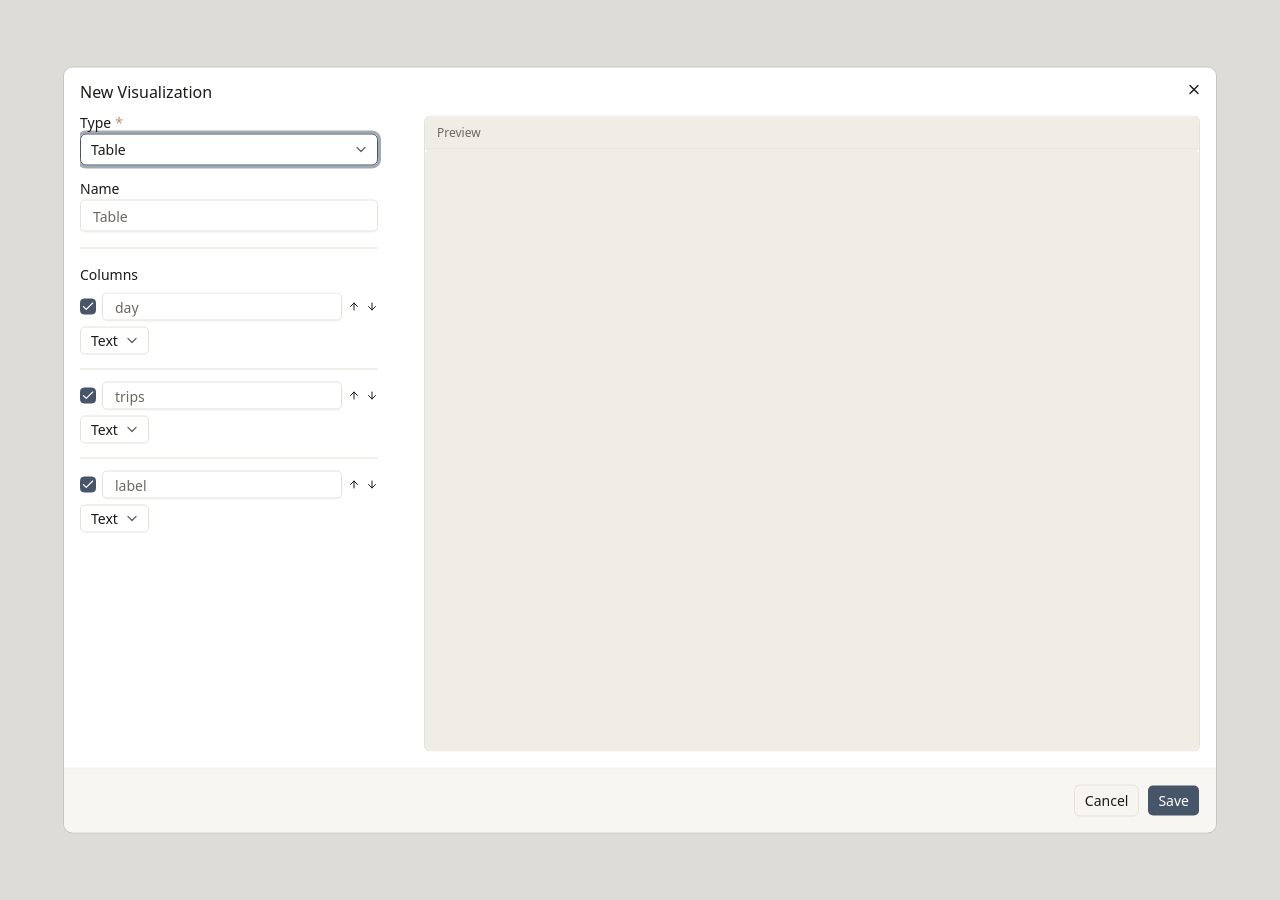
Test: EditVisualizationDialog chart column mapping › names each column mapping control after its column
This screenshot has width=1280, height=900.
Click the dropdown named "Type" at (108, 149), box [80,134,378,166]
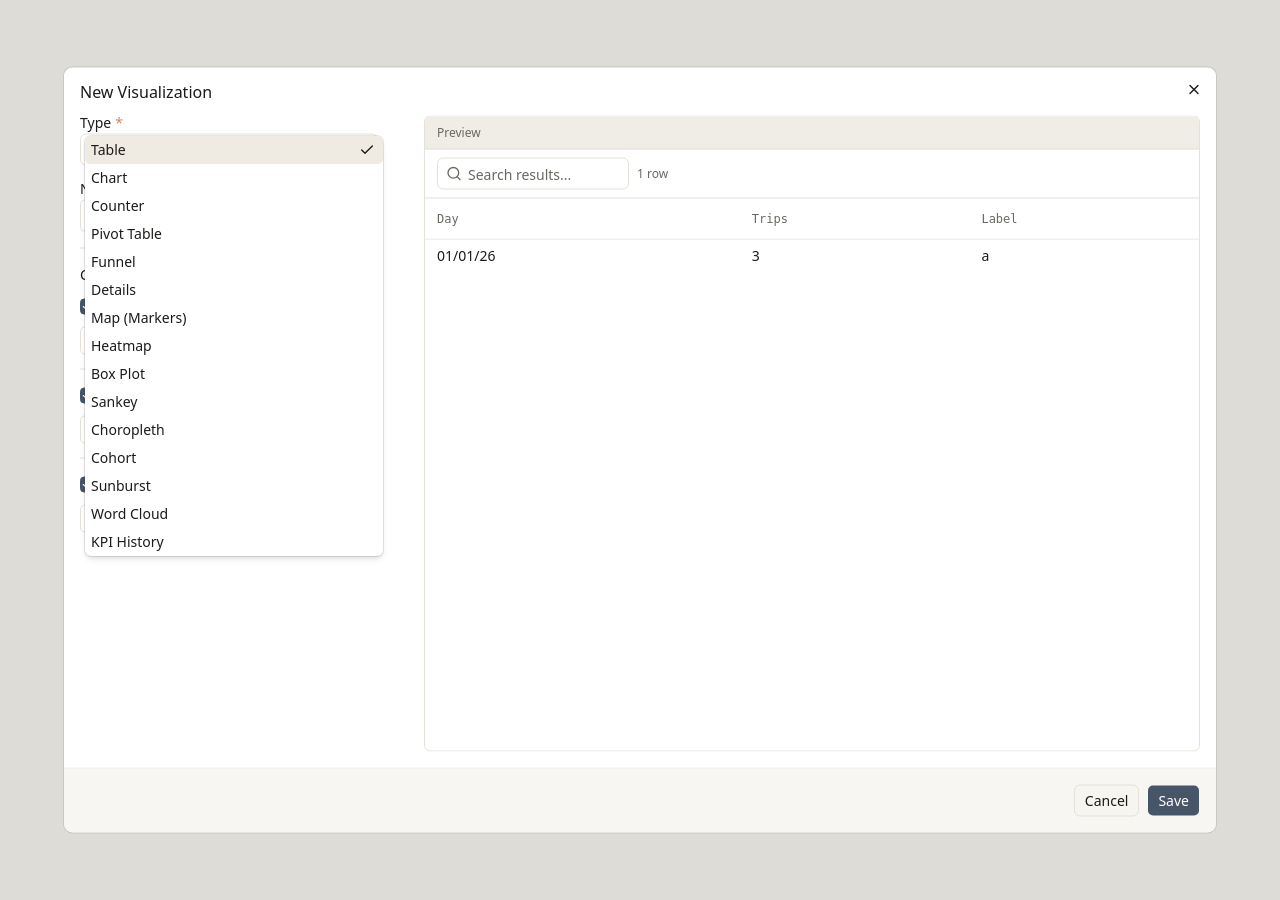
Click the option "Chart" at (109, 177), box [91,168,127,186]
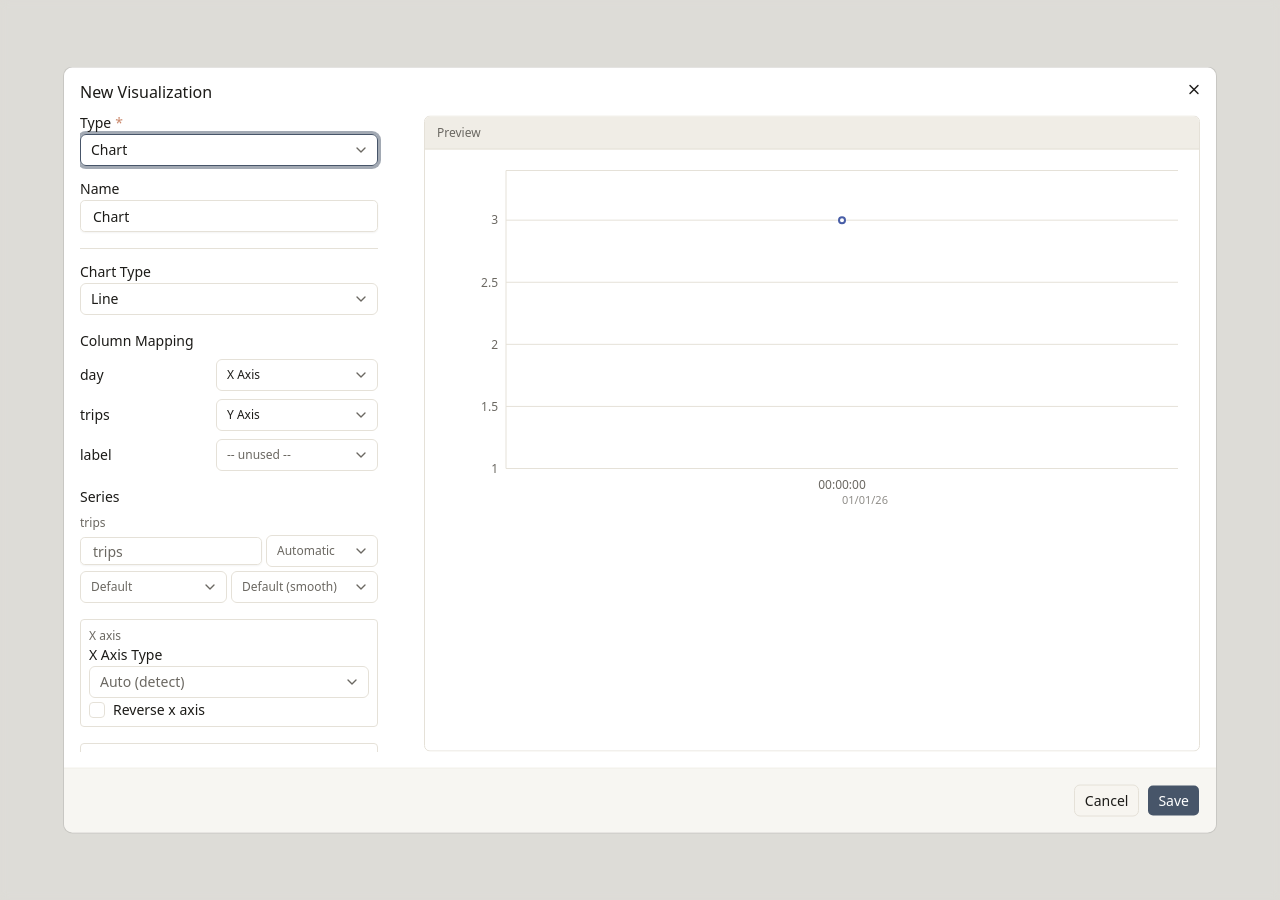
Expected: the dropdown named "Role for day" is shown, [216,358,378,390]
Expected: the dropdown named "Role for trips" is shown, [216,398,378,430]
